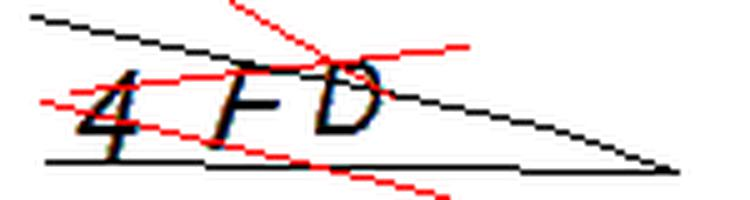4: (73, 61, 172, 173)
D: (304, 48, 402, 143)
F: (195, 51, 306, 154)
